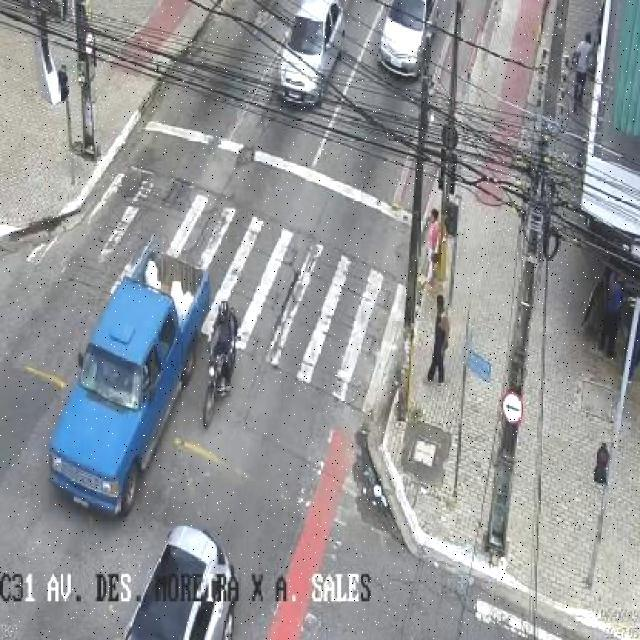Car: (46, 240, 208, 522), (276, 0, 344, 112), (376, 0, 440, 78)
Cycle: (200, 286, 239, 427)
